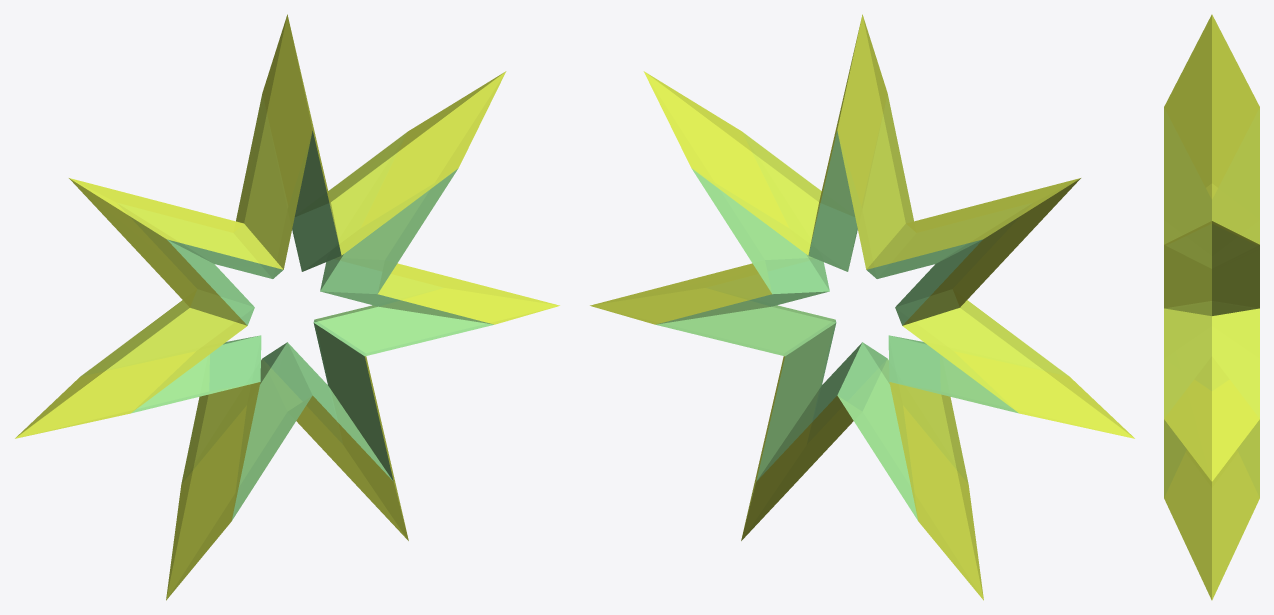
The model's file is Regular7TetragonalStarToroid.obj.
3 renders of one model, left to right at view 1: azimuth 30°, elevation 25°; view 2: azimuth 150°, elevation 25°; view 3: azimuth 270°, elevation 25°, orthographic. The views are drawn at different scales.
Bounding box in the file's own units: 4.38 × 4.27 × 0.7.
